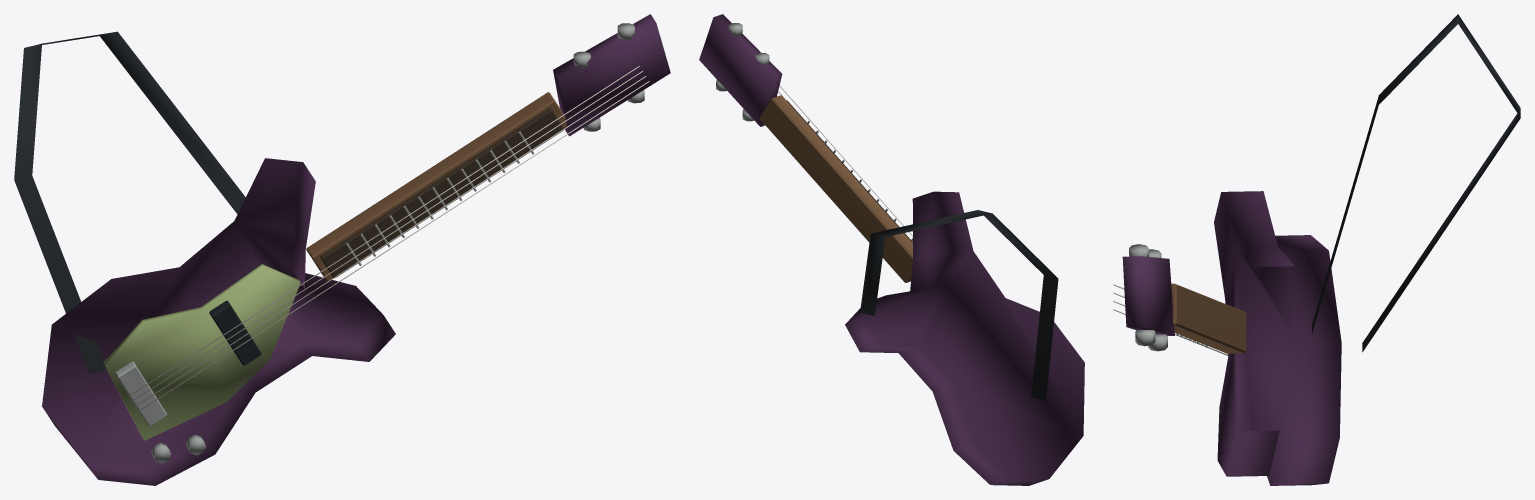
Rendered from instrument-01-bass.glb.
3 renders of one model, left to right at view 1: azimuth 30°, elevation 25°; view 2: azimuth 150°, elevation 25°; view 3: azimuth 270°, elevation 25°, orthographic. The views are drawn at different scales.
Parts seen in each view (by area): view 1: bass_murdoc_geometry; view 2: bass_murdoc_geometry; view 3: bass_murdoc_geometry.
Boxes of the visible parts, x1,y1,x2,y2 form: bass_murdoc_geometry: (14,14,670,485); bass_murdoc_geometry: (699,14,1084,485); bass_murdoc_geometry: (1113,14,1520,485).
Bounding box in the file's own units: 0.8429 × 0.6109 × 0.4883.
